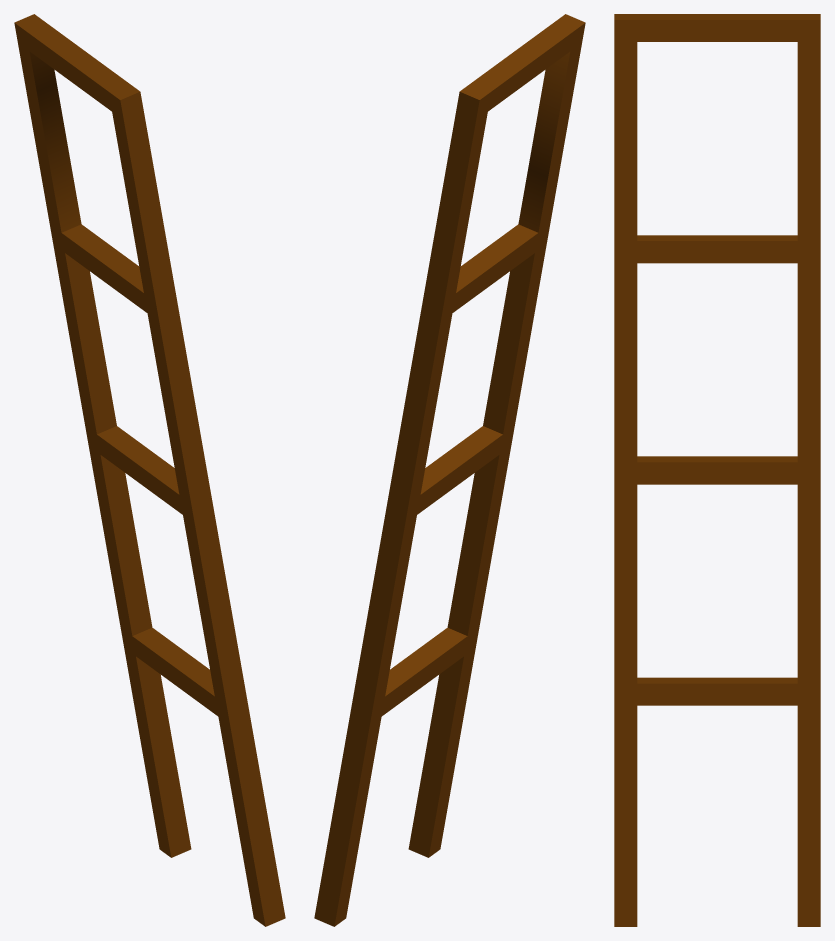
The model's file is Ladder.FBX.
3 renders of one model, left to right at view 1: azimuth 30°, elevation 25°; view 2: azimuth 150°, elevation 25°; view 3: azimuth 270°, elevation 25°, orthographic. The views are drawn at different scales.
Parts seen in each view (by area): view 1: Ladder_011; view 2: Ladder_011; view 3: Ladder_011.
Part boxes in pixels (x1,y1,x2,y2): Ladder_011: (14,14,285,926); Ladder_011: (314,14,585,926); Ladder_011: (614,14,820,926).
Bounding box in the file's own units: 81.04 × 90 × 406.
